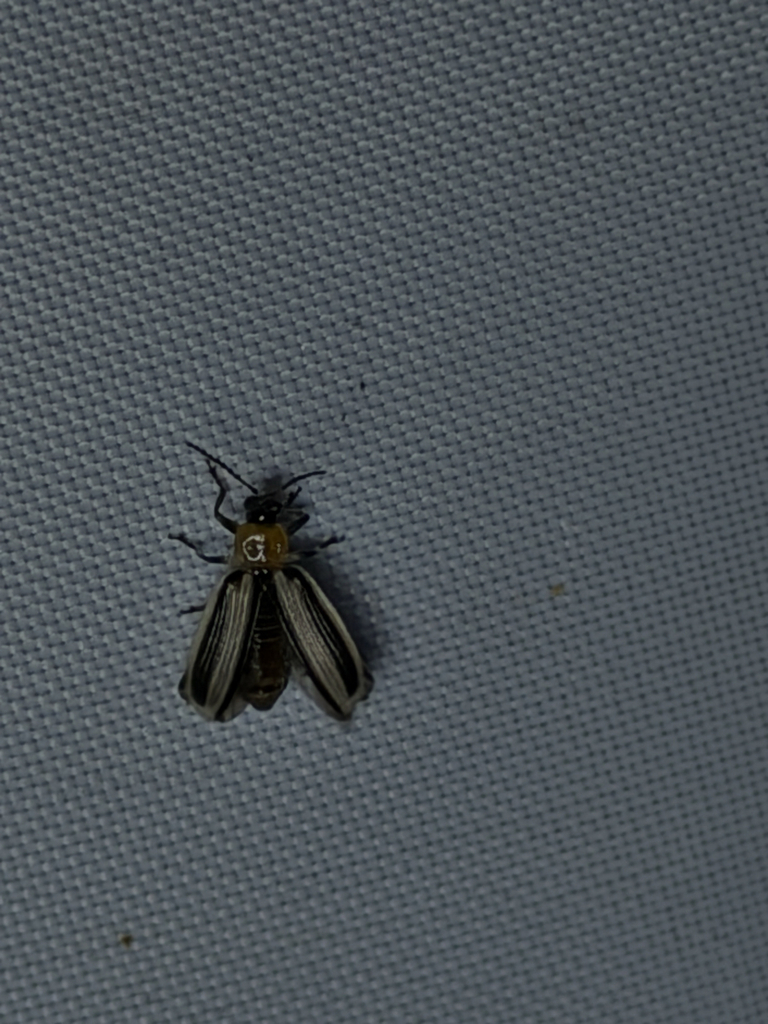potato_beetle: (44, 378, 497, 836)
